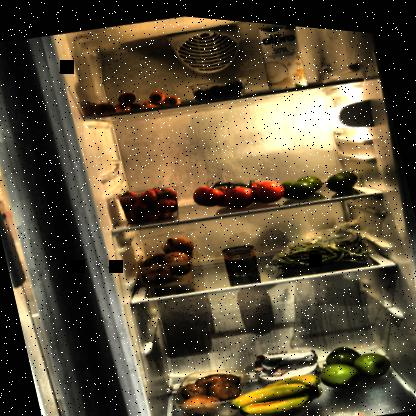apple: (314, 325, 400, 389)
banana: (225, 359, 329, 415)
blueberries: (188, 67, 252, 103)
carrot: (90, 73, 188, 124)
corn: (222, 236, 260, 274)
green_beans: (261, 204, 378, 281)
lime: (276, 155, 362, 203)
milk: (255, 18, 310, 92)
onion: (130, 227, 204, 293)
potato: (170, 353, 248, 415)
strawberries: (116, 176, 184, 228)
tomato: (190, 158, 290, 218)
